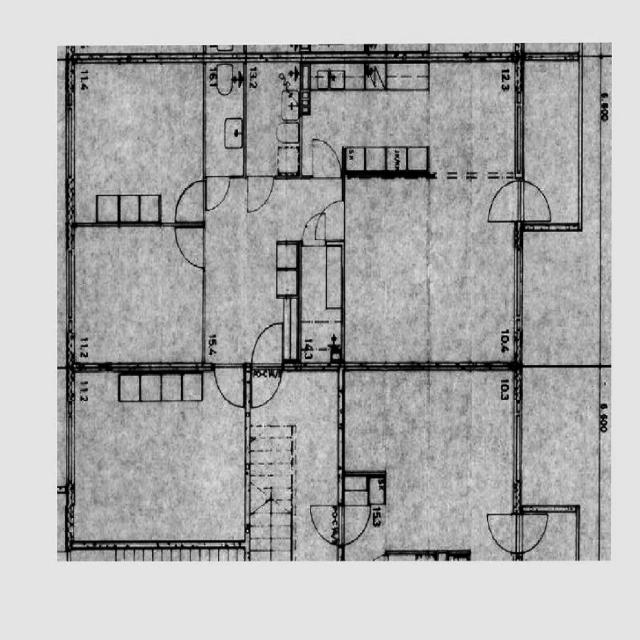door: (250, 321, 284, 368), (486, 180, 522, 223), (483, 512, 518, 556), (519, 180, 552, 225), (174, 224, 206, 269), (517, 509, 549, 554), (213, 364, 245, 408), (251, 366, 281, 409), (310, 506, 340, 549), (310, 141, 342, 180), (176, 179, 204, 220), (245, 175, 274, 214), (342, 505, 371, 544), (320, 200, 346, 240), (301, 212, 329, 248), (204, 174, 232, 209), (248, 482, 272, 514)
window: (62, 401, 76, 488), (511, 244, 525, 328), (64, 239, 77, 325), (511, 404, 524, 488), (63, 99, 76, 180), (336, 381, 347, 469), (512, 97, 524, 174), (242, 409, 251, 474)
zone: (340, 172, 514, 373), (343, 362, 514, 554), (68, 372, 250, 546), (69, 59, 206, 224), (69, 222, 205, 368), (250, 368, 340, 500), (518, 366, 600, 509), (302, 82, 428, 170), (429, 61, 518, 176), (521, 60, 581, 227), (245, 58, 299, 177), (297, 238, 343, 366), (204, 60, 243, 180)
